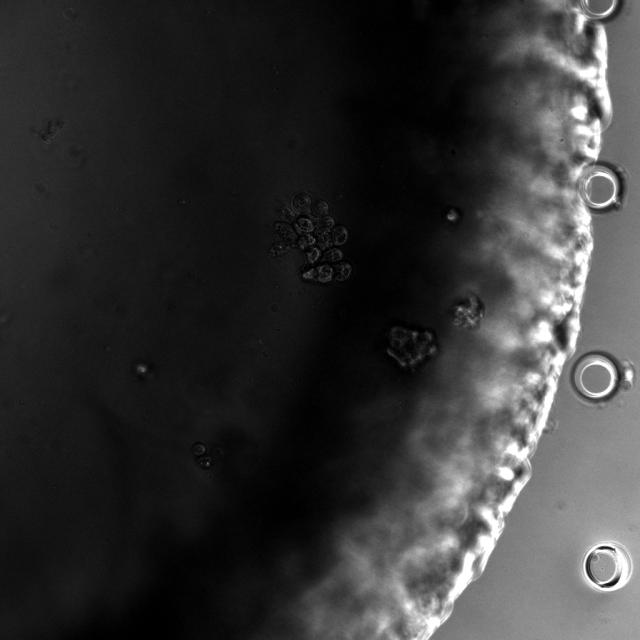organoid: (269, 192, 352, 286), (386, 326, 437, 371), (449, 294, 484, 330), (192, 441, 212, 469)
